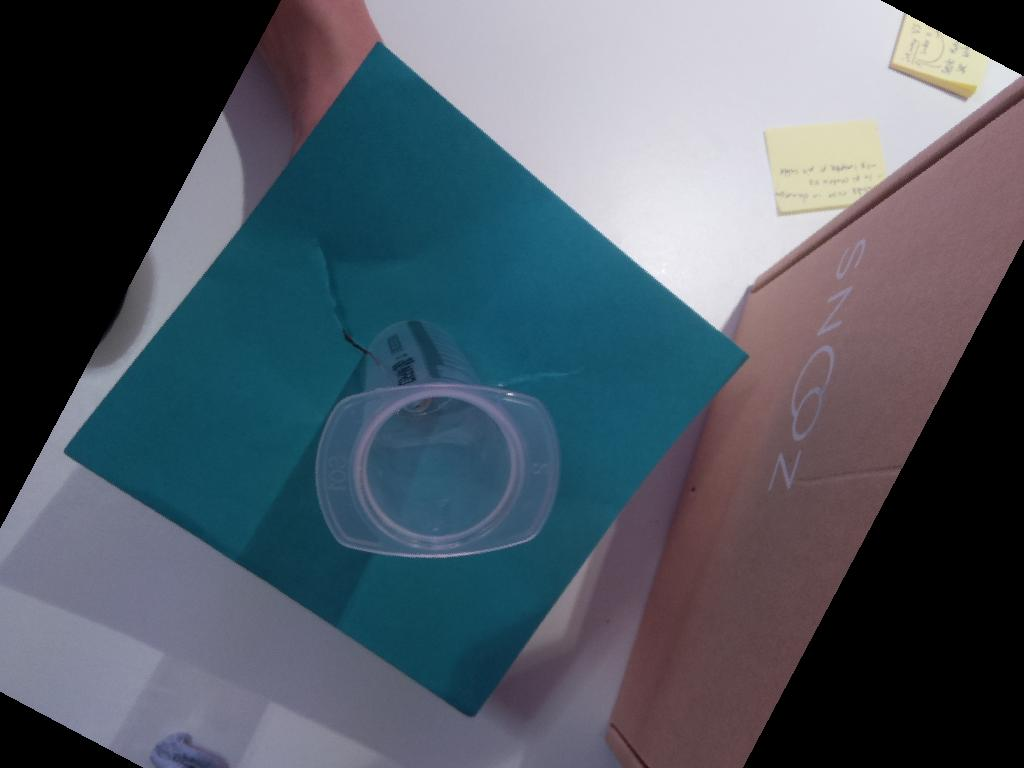clean: (312, 378, 564, 555)
